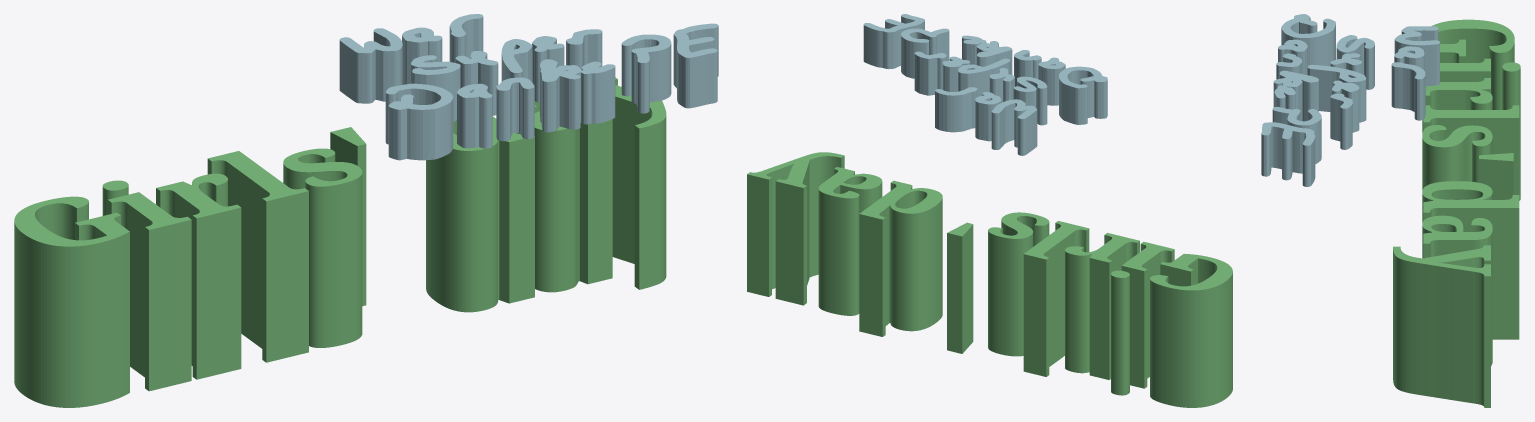
The model's file is asset.glb.
3 renders of one model, left to right at view 1: azimuth 30°, elevation 25°; view 2: azimuth 150°, elevation 25°; view 3: azimuth 270°, elevation 25°, orthographic. The views are drawn at different scales.
Parts seen in each view (by area): view 1: Mesh_Mesh_head_geo.001_lambert2SG.001; view 2: Mesh_Mesh_head_geo.001_lambert2SG.001; view 3: Mesh_Mesh_head_geo.001_lambert2SG.001.
Boxes of the visible parts, x1,y1,x2,y2 form: Mesh_Mesh_head_geo.001_lambert2SG.001: (14, 14, 718, 407); Mesh_Mesh_head_geo.001_lambert2SG.001: (747, 14, 1232, 407); Mesh_Mesh_head_geo.001_lambert2SG.001: (1261, 14, 1520, 407).
Size of the model in its own units: 134 by 59 by 57.06.
